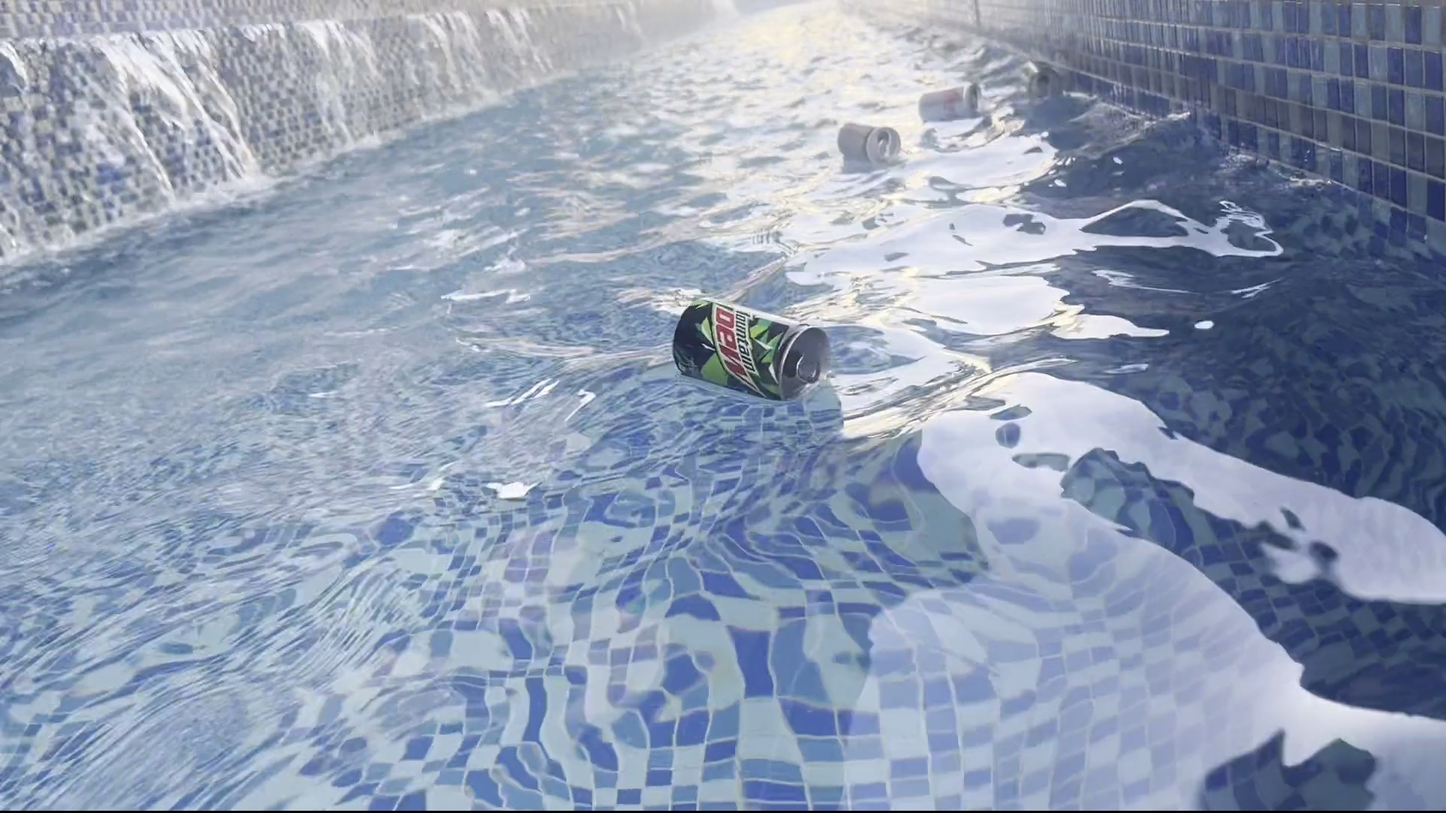debris: (660, 286, 838, 408), (828, 116, 910, 169), (913, 77, 988, 124), (1009, 58, 1063, 102)
